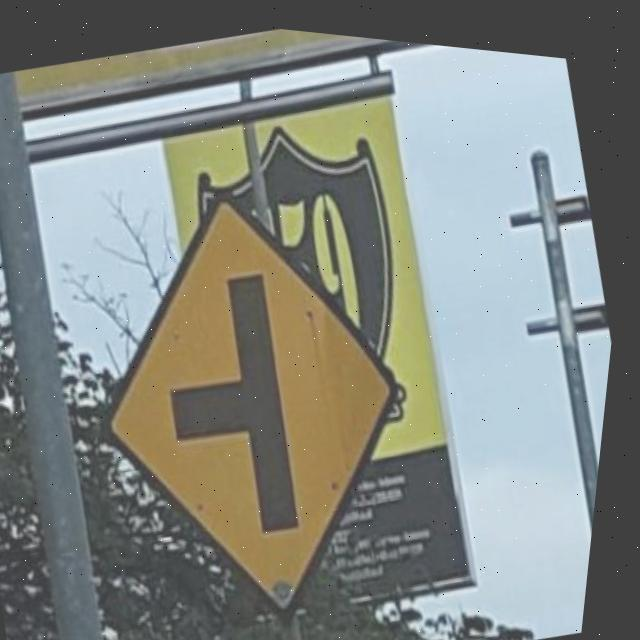Persimpangan 3 Sisi Kiri: (64, 156, 471, 640)
